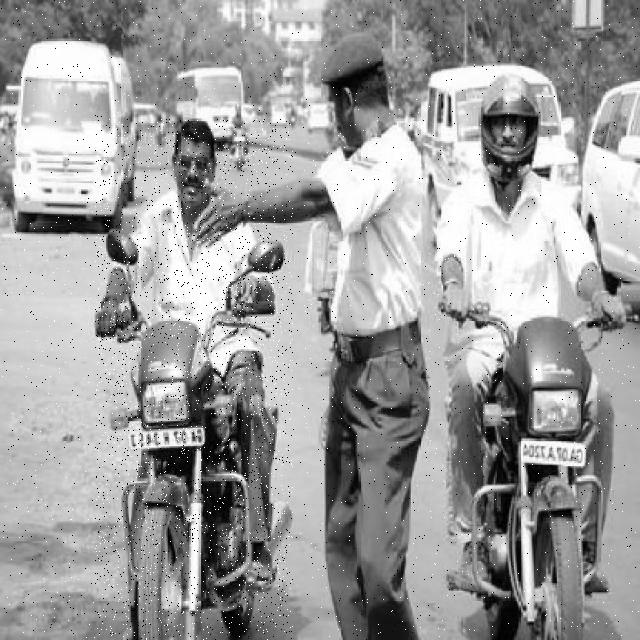Motorbike: (95, 119, 293, 640)
